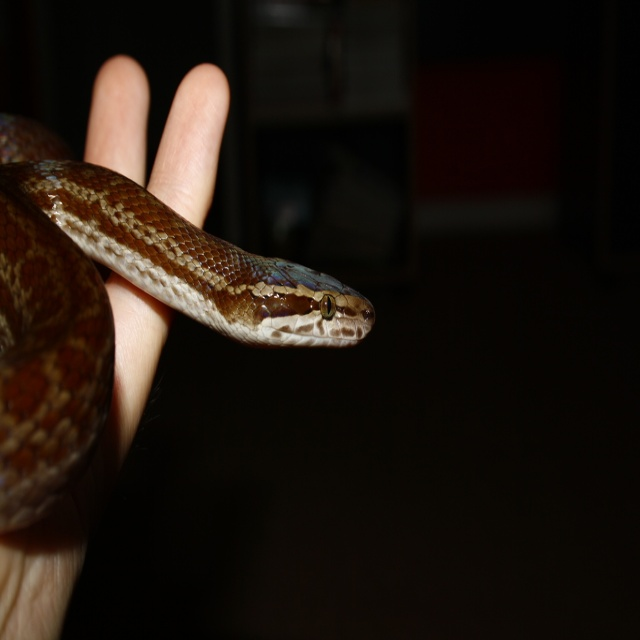Snake: (0, 103, 379, 539)
